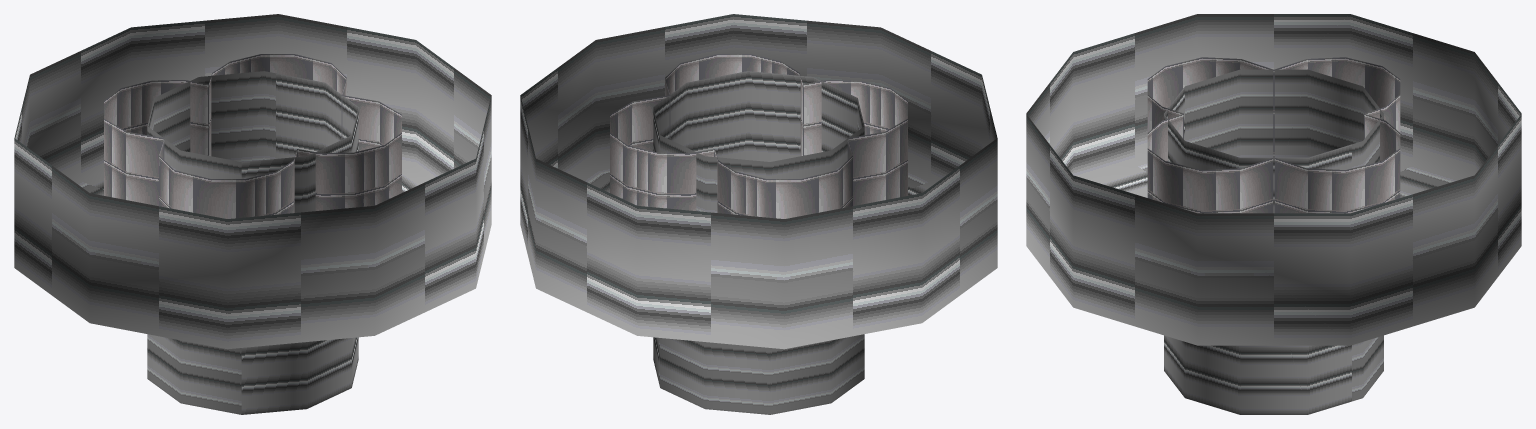
Rendered from 2777item2777.gltf.
The picture shows the model from 3 angles, left to right: view 1: azimuth 30°, elevation 25°; view 2: azimuth 150°, elevation 25°; view 3: azimuth 270°, elevation 25°; orthographic projection.
Parts seen in each view (by area): view 1: 2777item2777; view 2: 2777item2777; view 3: 2777item2777.
Part boxes in pixels (x1=…): 2777item2777: x1=14, y1=14, x2=491, y2=414; 2777item2777: x1=520, y1=14, x2=997, y2=414; 2777item2777: x1=1026, y1=14, x2=1521, y2=414.
Size of the model in its own units: 0.269 by 0.1619 by 0.2827.
Materials: 2 (2 with a texture image).
